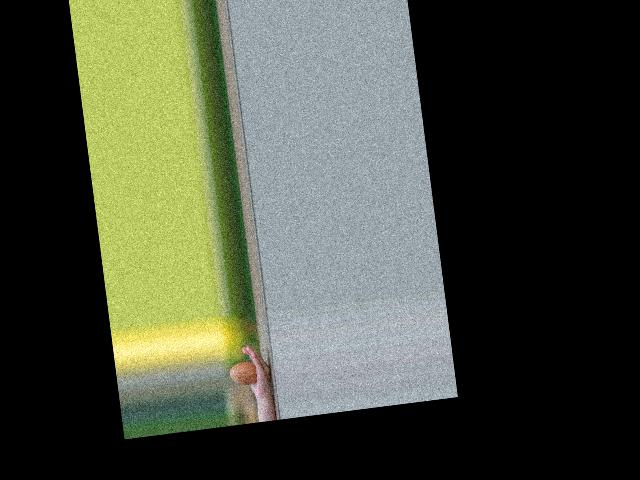egg: (229, 361, 258, 387)
